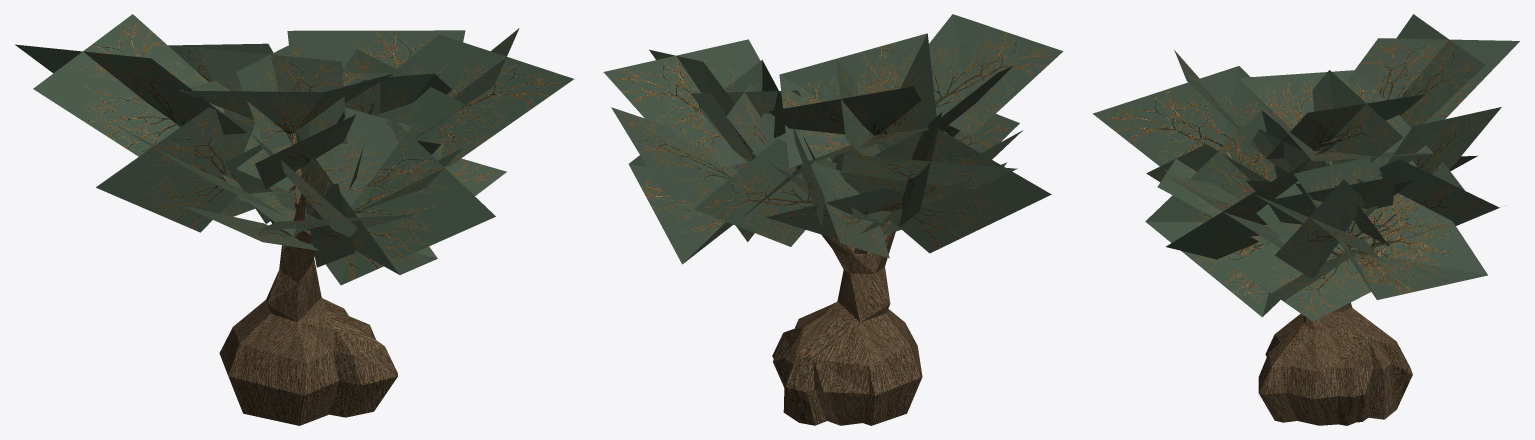
File: decd_oaktreebranches_a2_l1.fbx
The picture shows the model from 3 angles, left to right: view 1: azimuth 30°, elevation 25°; view 2: azimuth 150°, elevation 25°; view 3: azimuth 270°, elevation 25°; orthographic projection. The views are drawn at different scales.
Parts seen in each view (by area): view 1: mesh_node; view 2: mesh_node; view 3: mesh_node.
Boxes of the visible parts, bbox=[...] form: mesh_node: bbox=[15, 14, 573, 425]; mesh_node: bbox=[603, 14, 1063, 425]; mesh_node: bbox=[1093, 14, 1519, 425].
Size of the model in its own units: 23.41 by 16.99 by 21.09.
